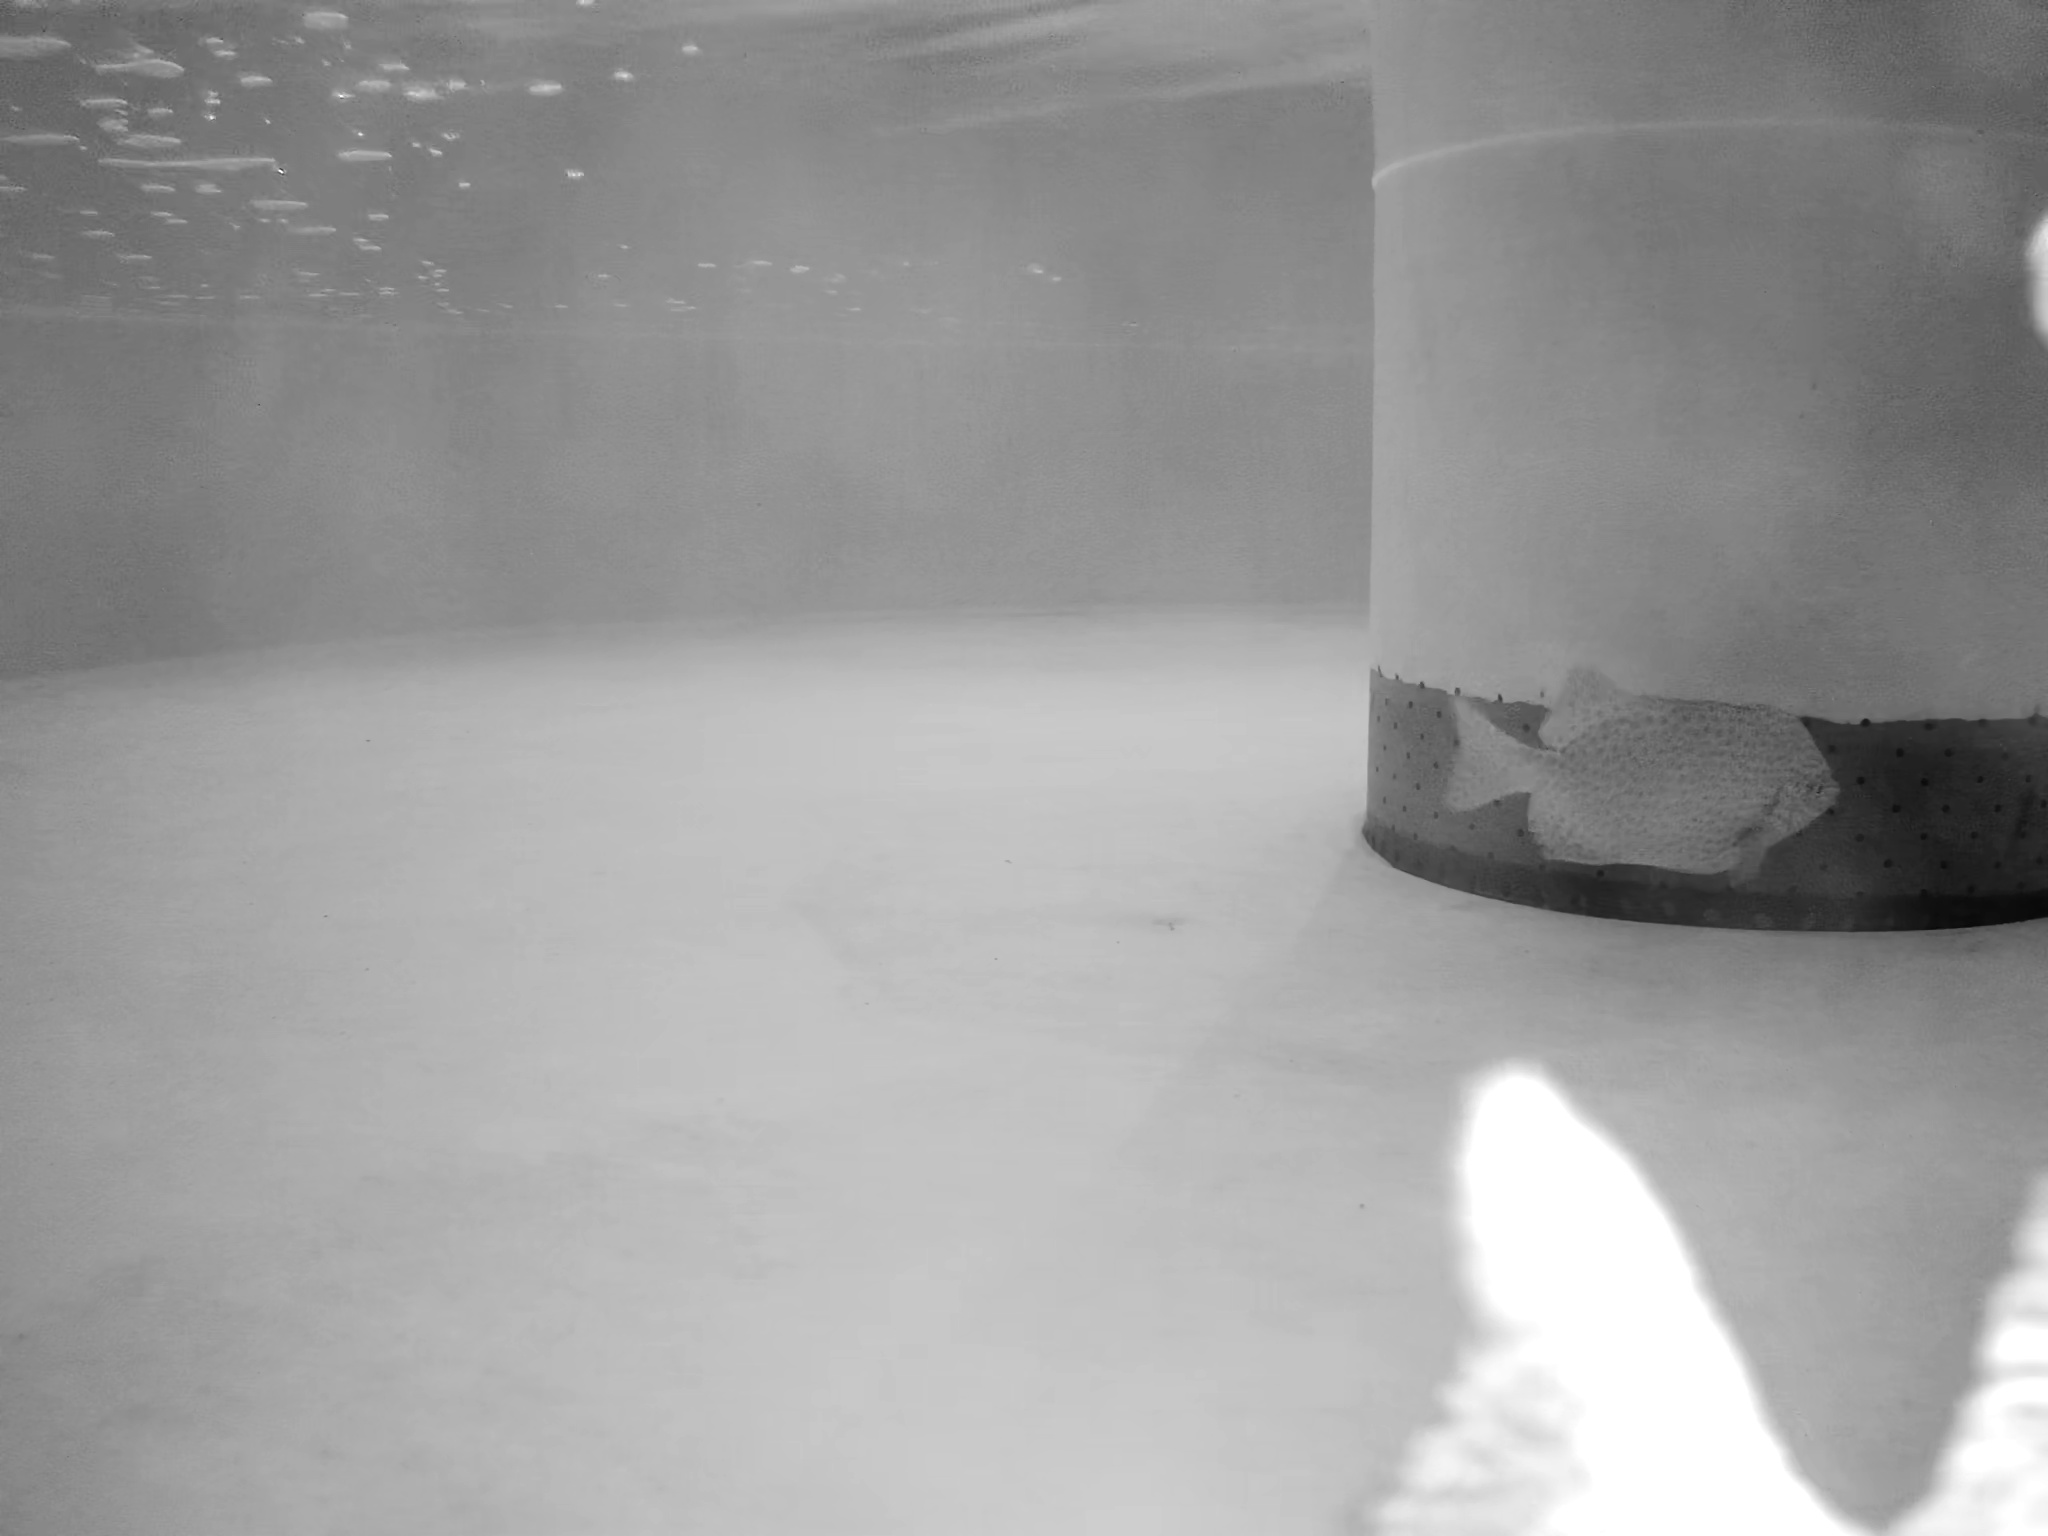fish: (1340, 1049, 2048, 1536), (1438, 670, 1837, 884)
